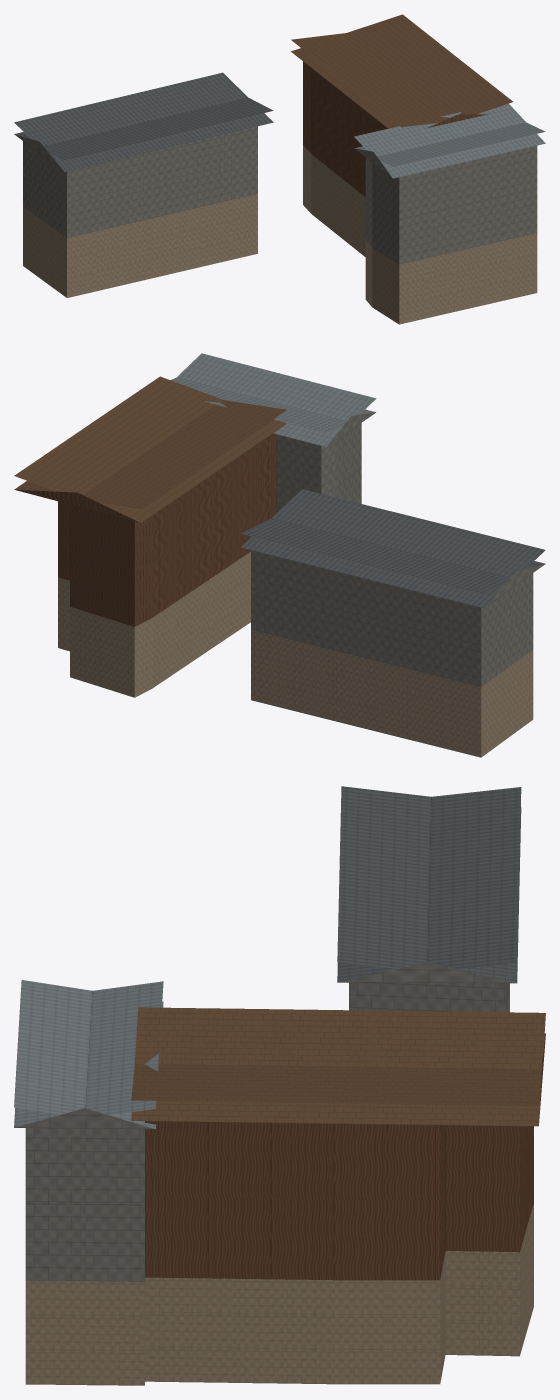
File: bld_c32_-39_455.gltf
The picture shows the model from 3 angles, top to bottom: view 1: azimuth 30°, elevation 25°; view 2: azimuth 150°, elevation 25°; view 3: azimuth 270°, elevation 25°; orthographic projection. The views are drawn at different scales.
Visible parts, largest first — view 1: bld_c32_-39_455; view 2: bld_c32_-39_455; view 3: bld_c32_-39_455.
Boxes of the visible parts, x1,y1,x2,y2 form: bld_c32_-39_455: (14,14,545,324); bld_c32_-39_455: (14,353,545,757); bld_c32_-39_455: (14,786,545,1385).
Size of the model in its own units: 35.1 by 14.2 by 23.62.
Materials: 8 (8 with a texture image).
